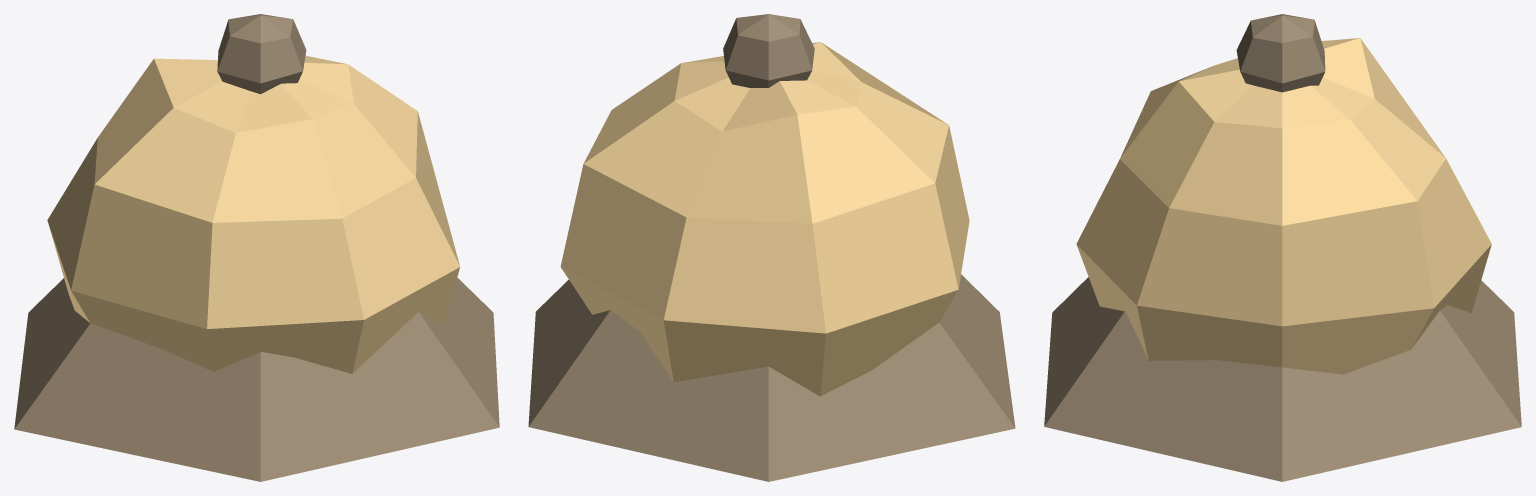
The model's file is tower-lumen-parts.glb.
The picture shows the model from 3 angles, left to right: view 1: azimuth 30°, elevation 25°; view 2: azimuth 150°, elevation 25°; view 3: azimuth 270°, elevation 25°; orthographic projection.
Parts seen in each view (by area): view 1: orb, cageTop; view 2: orb, cageTop; view 3: orb, cageTop.
Boxes of the visible parts, left/top/right/bottom form: orb: left=47, top=55, right=459, bottom=373; cageTop: left=14, top=14, right=499, bottom=481; orb: left=560, top=42, right=969, bottom=396; cageTop: left=528, top=14, right=1015, bottom=481; orb: left=1076, top=38, right=1491, bottom=374; cageTop: left=1044, top=14, right=1521, bottom=481.
Bounding box in the file's own units: 0.6019 × 0.495 × 0.521.
